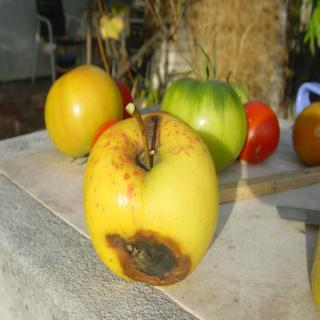tomato: (160, 29, 248, 175), (43, 64, 124, 159), (241, 100, 281, 168), (292, 100, 320, 167), (111, 74, 135, 120)
